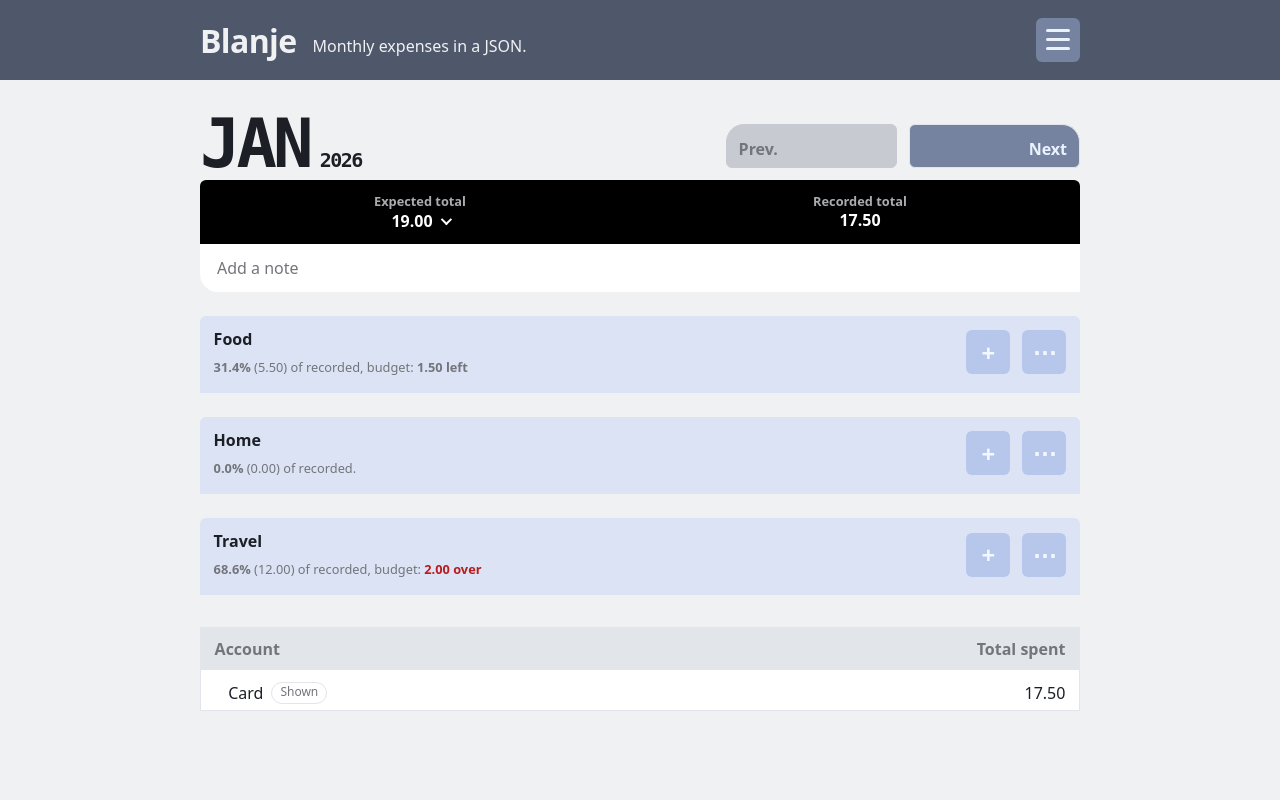
Test: App monthly table views › disables month navigation while editing a category budget
Click the button with aria-label "Next month". click: click(994, 146)
box: [909,124,1080,168]
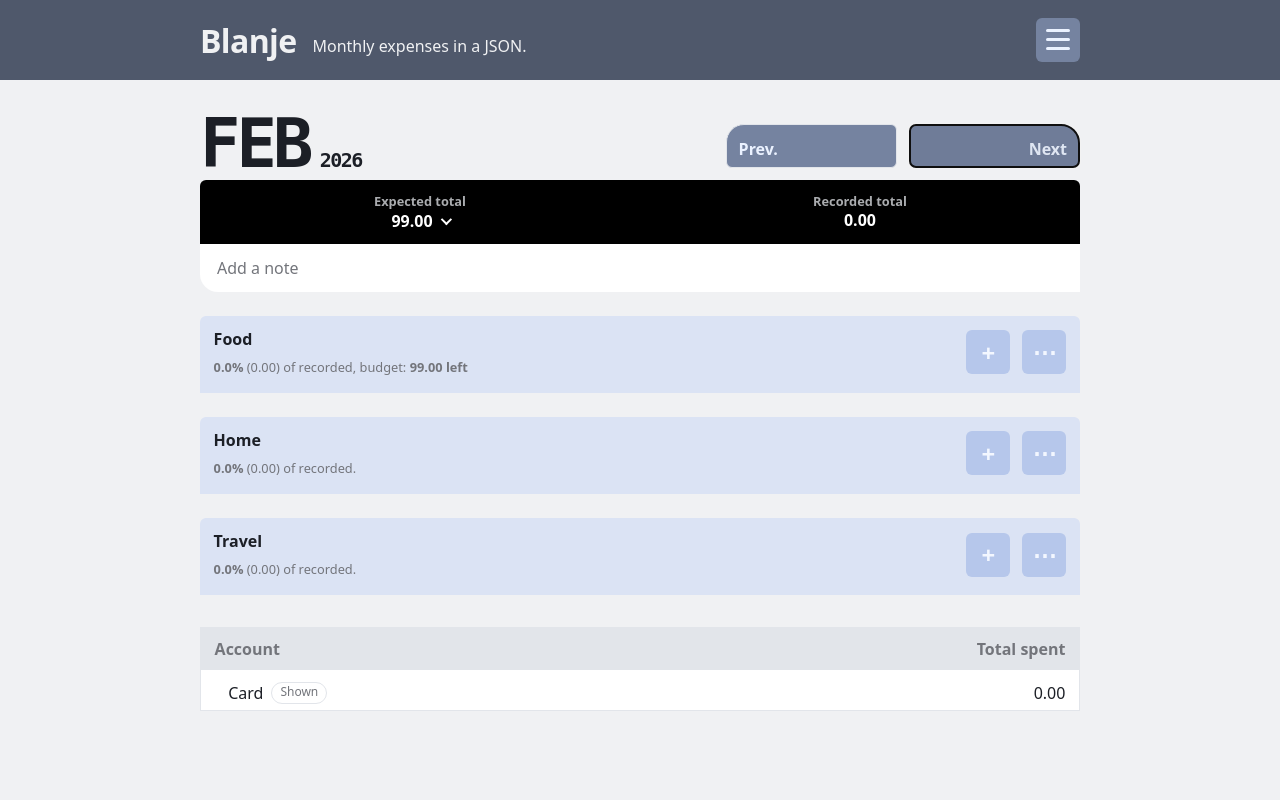
Click the button named "Food item list menu". click: click(1044, 352)
box: [1022,330,1066,374]
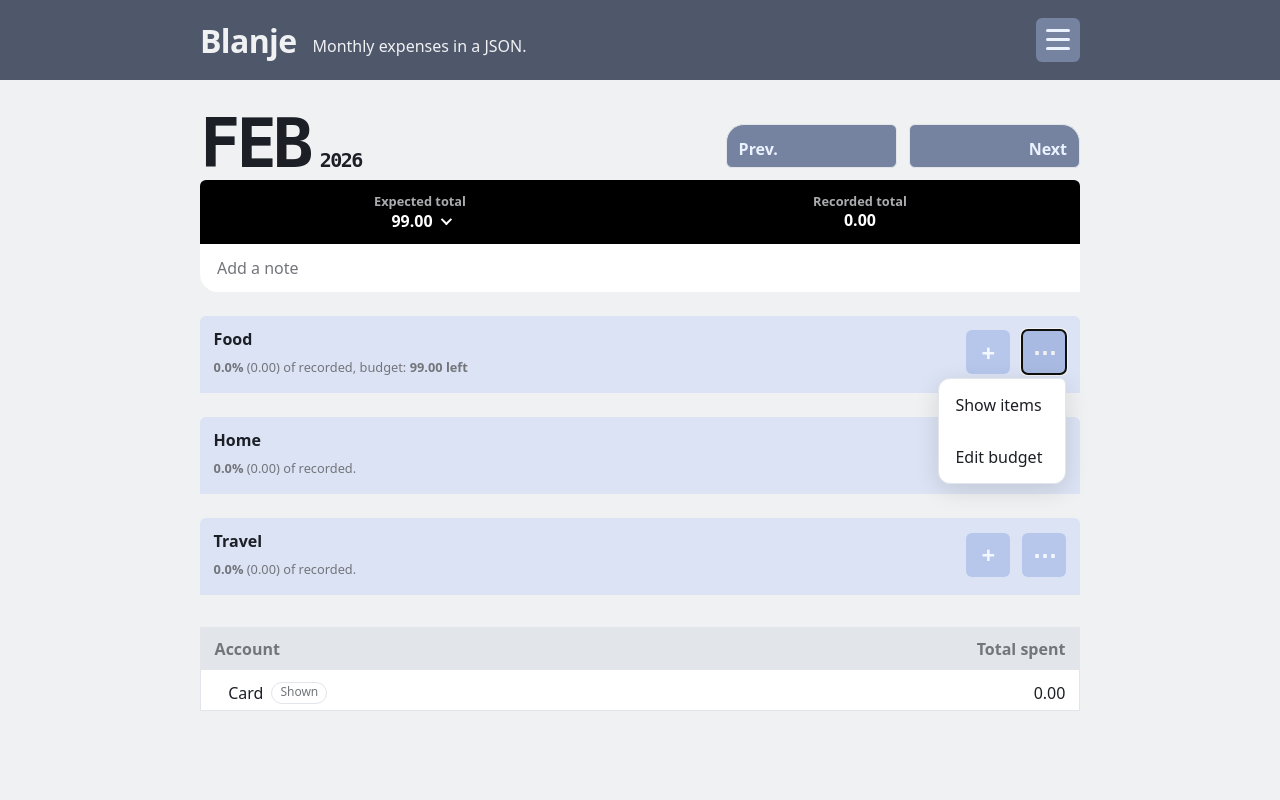
Click the menu item "Edit budget". click: click(1002, 457)
box: [943,435,1061,479]
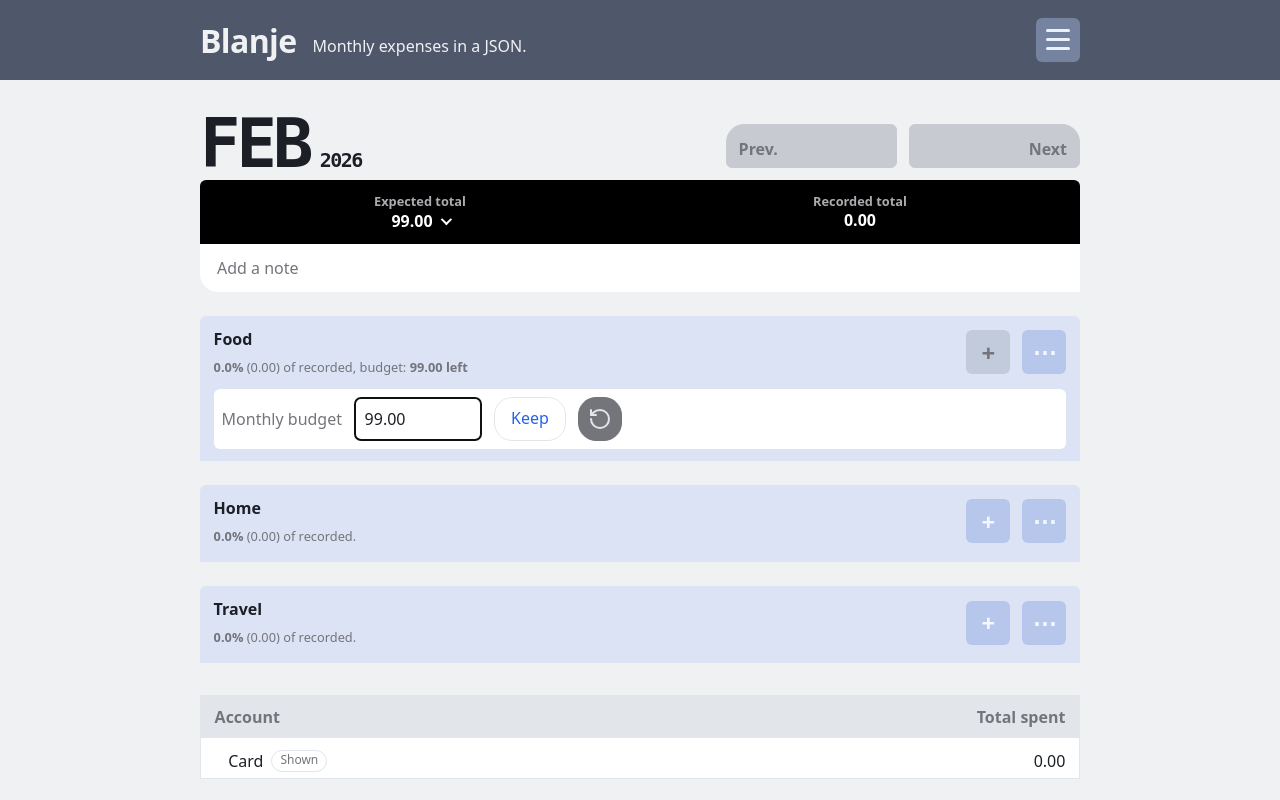
Now the button with aria-label "Previous month" is disabled, box [726,124,897,168]
Now the button with aria-label "Next month" is disabled, box [909,124,1080,168]
Click the button "Keep". click: click(530, 419)
box: [494,397,566,441]
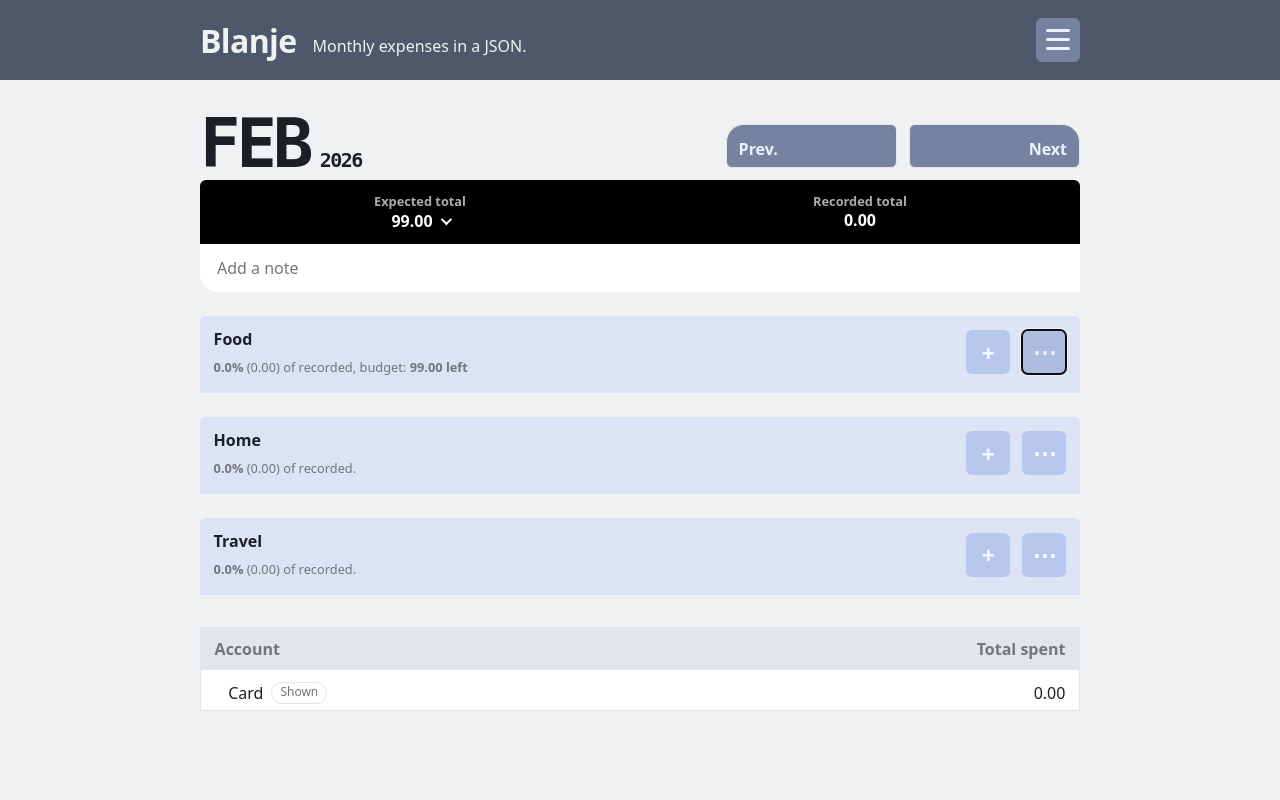
Now the button with aria-label "Previous month" is enabled, box [726,124,897,168]
Now the button with aria-label "Next month" is enabled, box [909,124,1080,168]
